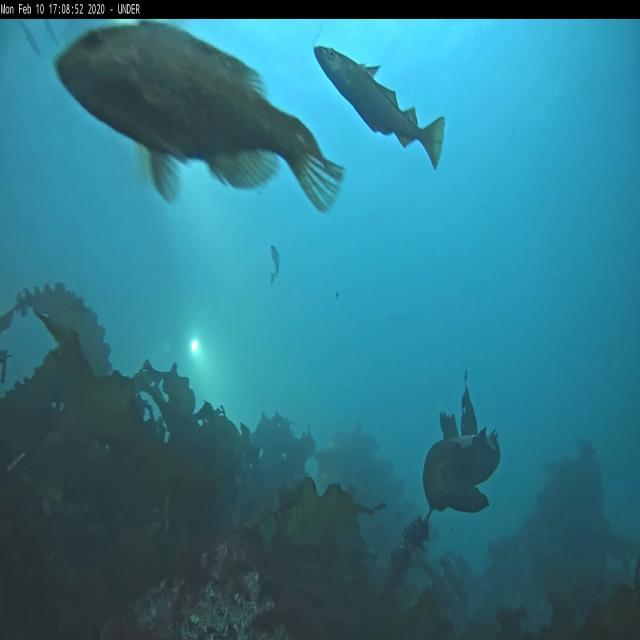fish: (54, 20, 346, 218), (314, 45, 446, 170), (17, 22, 38, 54), (269, 242, 281, 284), (44, 20, 58, 45)
